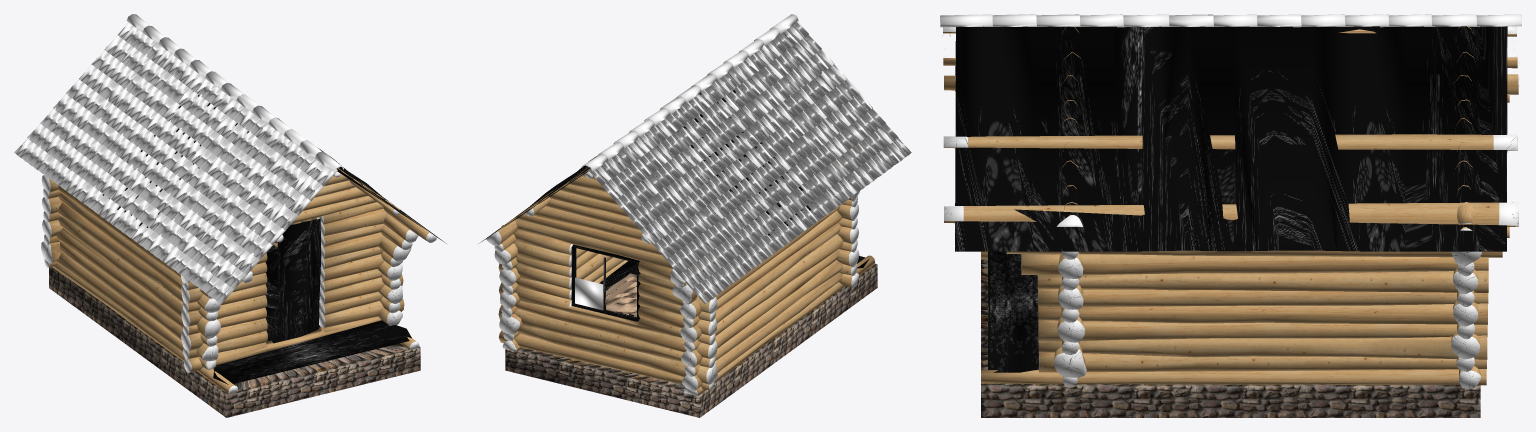
File: cabin.glb
3 renders of one model, left to right at view 1: azimuth 30°, elevation 25°; view 2: azimuth 150°, elevation 25°; view 3: azimuth 270°, elevation 25°, orthographic. The views are drawn at different scales.
Visible parts, largest first — view 1: roof tiles, Logs all, stone base, door frame, floor beams; view 2: roof tiles, Logs all, stone base, floor beams, Wood table with benches, window, door frame; view 3: floor beams, Logs all, stone base, roof tiles, door frame.
Boxes of the visible parts, x1,y1,x2,y2 form: roof tiles: (14,14,343,304); Logs all: (41,168,436,393); stone base: (49,267,420,417); door frame: (213,218,411,384); floor beams: (103,91,446,243); roof tiles: (581,14,911,303); Logs all: (486,25,879,395); stone base: (505,264,877,417); floor beams: (479,33,896,321); Wood table with benches: (603,273,636,316); window: (575,277,603,310); door frame: (599,256,869,315); floor beams: (955,26,1507,251); Logs all: (943,26,1518,388); stone base: (981,259,1480,417); roof tiles: (940,14,1521,78); door frame: (988,251,1038,372).
Bounding box in the file's own units: 4.44 × 4.33 × 6.76.
22 materials, 19 textured.
